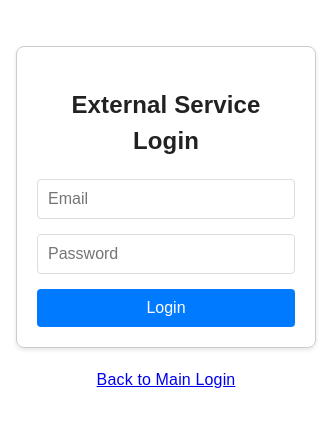
Test case: SimpleExternalLoginPage › shows an error message on network/GraphQL error
Type "error@example.com" into the field with placeholder "Email" at (166, 199), box [37, 179, 295, 219]
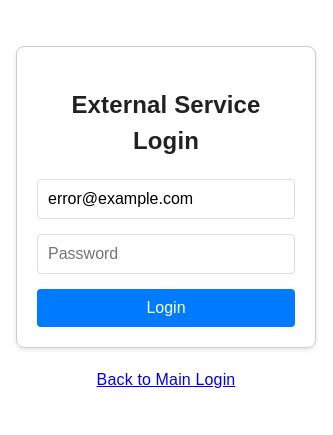
Type "errorpassword" into the password field with placeholder "Password" at (166, 254), box [37, 234, 295, 274]
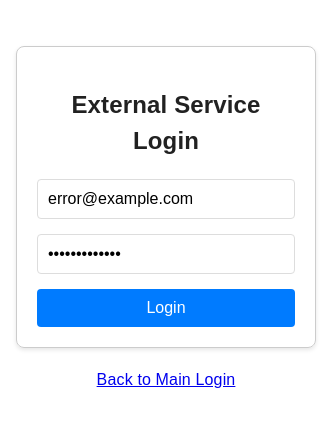
Click the button "Login" at (166, 308), box [37, 289, 295, 327]
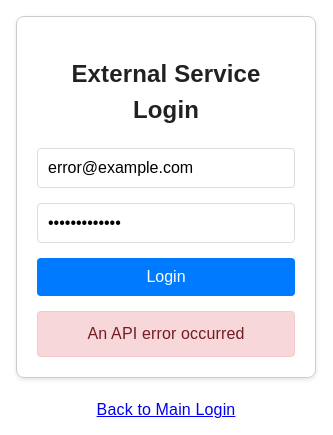
Check: the text "An API error occurred" is shown, box [37, 312, 295, 358]
